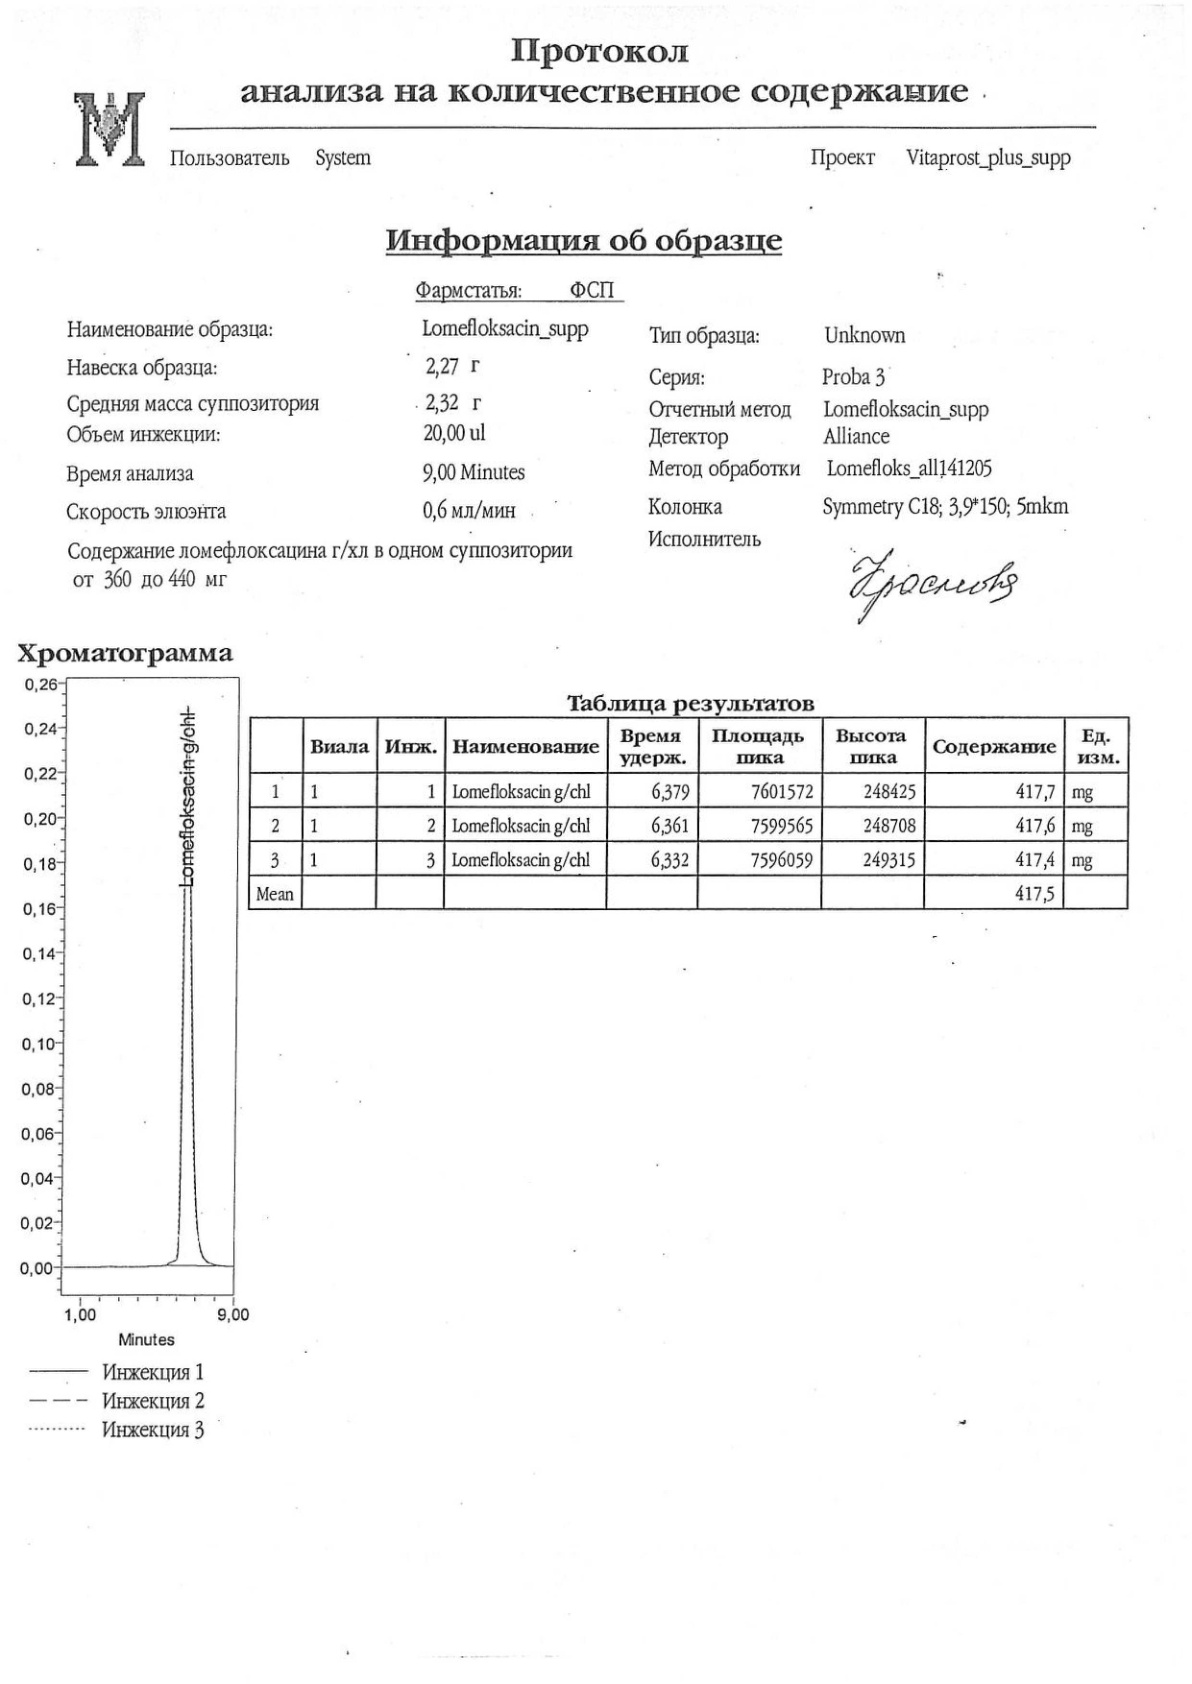full_lined: (246, 716, 1131, 912)
nolines: (62, 313, 1077, 600)
